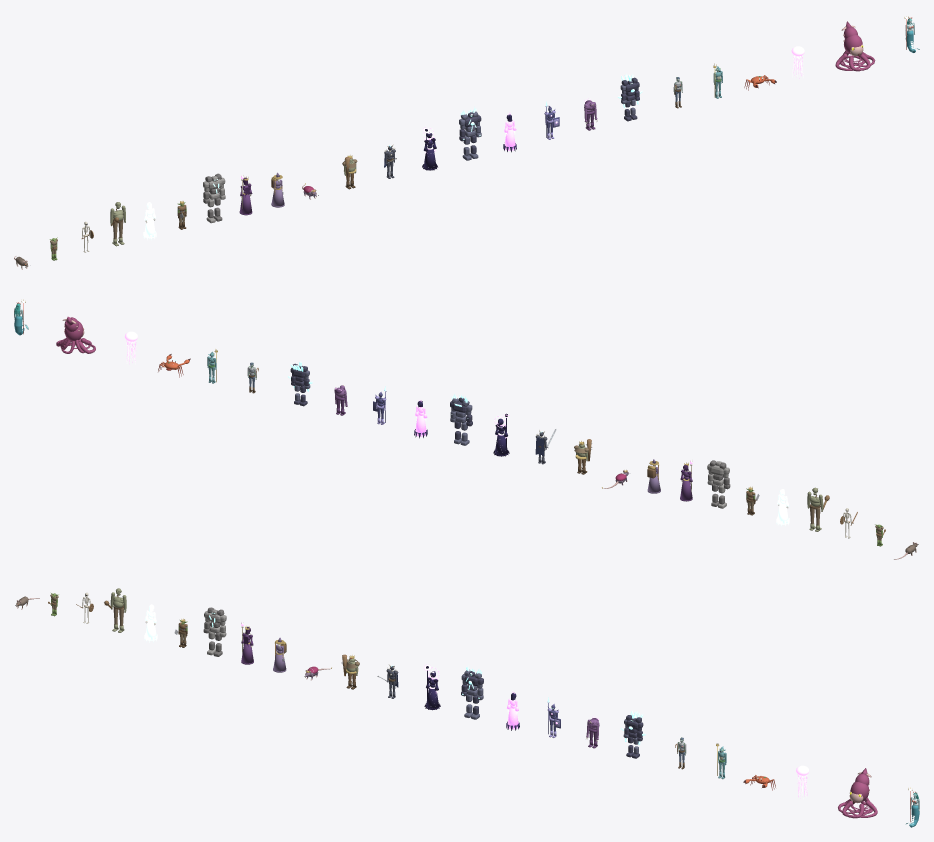
File: enemies.glb
The picture shows the model from 3 angles, top to bottom: view 1: azimuth 30°, elevation 25°; view 2: azimuth 150°, elevation 25°; view 3: azimuth 330°, elevation 25°; orthographic projection.
Visible parts, largest first — view 1: enemy_kraken__body; view 2: enemy_kraken__body; view 3: enemy_kraken__body.
Boxes of the visible parts, x1,y1,x2,y2 form: enemy_kraken__body: (840,27,865,66); enemy_kraken__body: (60,317,84,353); enemy_kraken__body: (847,773,872,813).
Size of the model in its own units: 55.99 by 3.06 by 2.5.
